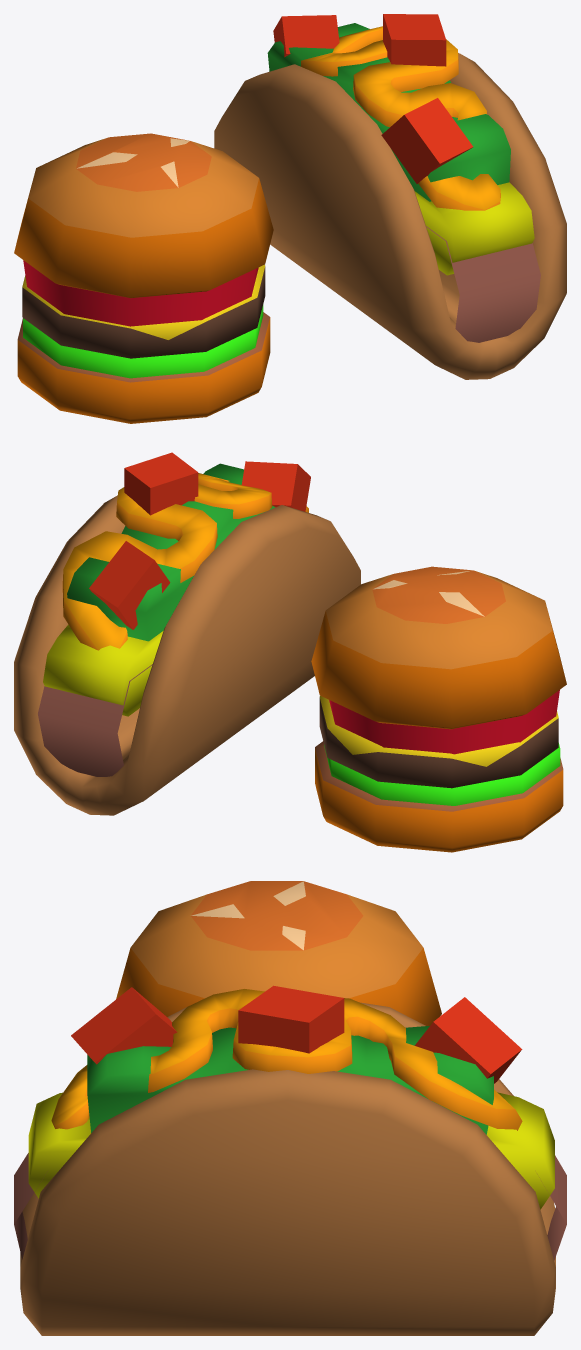
The model's file is Fast Food.fbx.
3 renders of one model, top to bottom at view 1: azimuth 30°, elevation 25°; view 2: azimuth 150°, elevation 25°; view 3: azimuth 270°, elevation 25°, orthographic. The views are drawn at different scales.
Parts seen in each view (by area): view 1: Sandwich, Burger; view 2: Sandwich, Burger; view 3: Sandwich, Burger.
Boxes of the visible parts, <box> form: Sandwich: <box>214,14,566,379</box>; Burger: <box>14,133,273,423</box>; Sandwich: <box>14,452,360,815</box>; Burger: <box>311,566,566,852</box>; Sandwich: <box>14,985,566,1335</box>; Burger: <box>116,881,441,1025</box>.
Bounding box in the file's own units: 88.65 × 51.83 × 76.68.
1 material, 1 textured.
